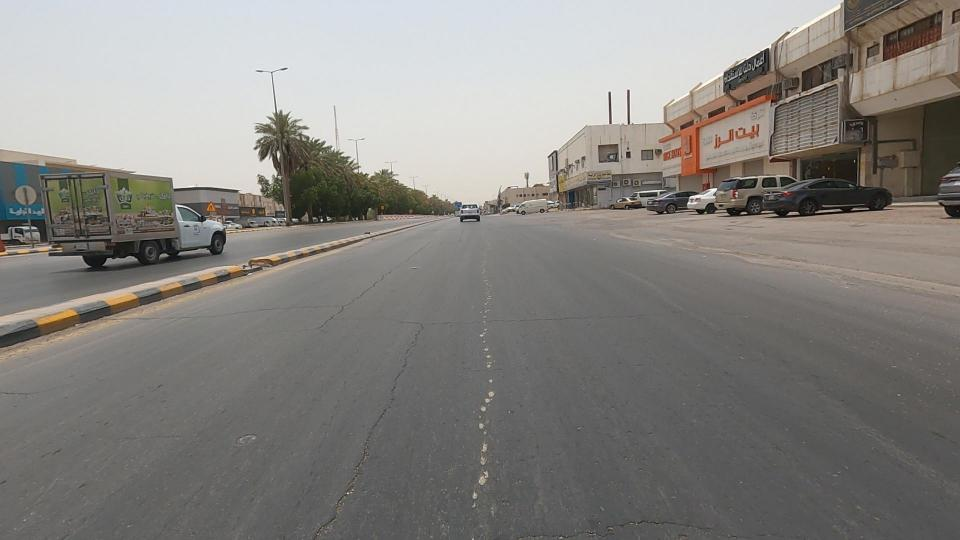BAD_BILLBOARD: (710, 63, 904, 194)
